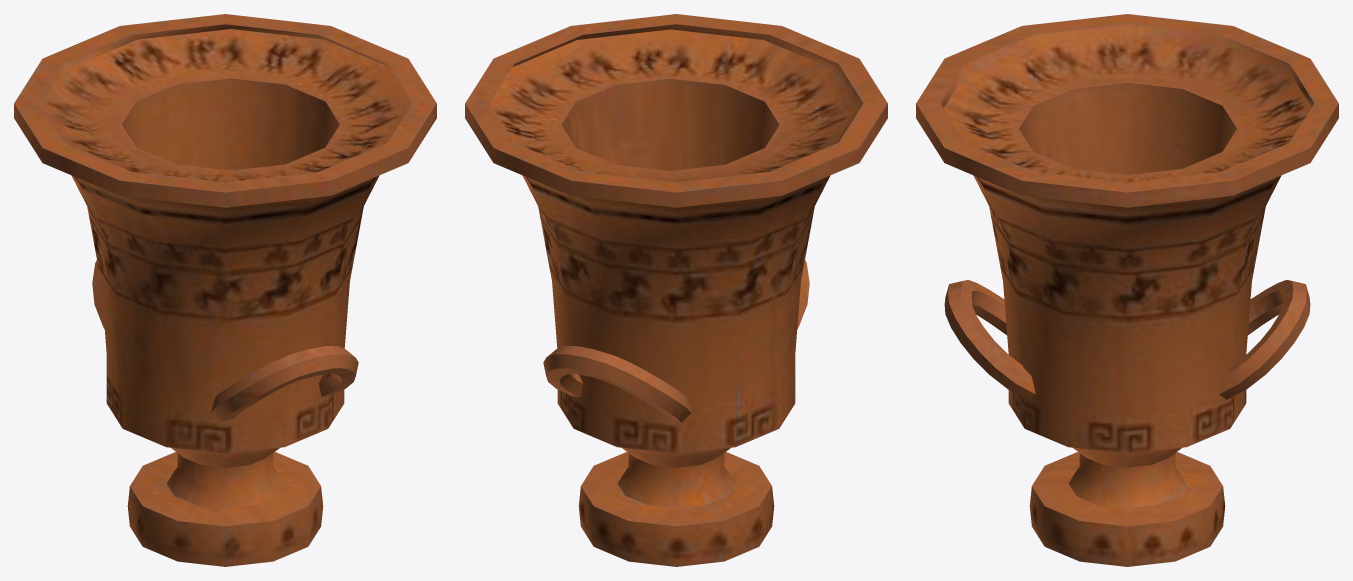
The model's file is SM_vase_07.glb.
3 renders of one model, left to right at view 1: azimuth 30°, elevation 25°; view 2: azimuth 150°, elevation 25°; view 3: azimuth 270°, elevation 25°, orthographic.
Parts seen in each view (by area): view 1: SM_vase_07; view 2: SM_vase_07; view 3: SM_vase_07.
Boxes of the visible parts, x1,y1,x2,y2 form: SM_vase_07: (14,14,436,566); SM_vase_07: (465,14,887,566); SM_vase_07: (916,14,1338,566).
Bounding box in the file's own units: 0.996 × 1.1 × 0.996.
Materials: 1 (1 with a texture image).
